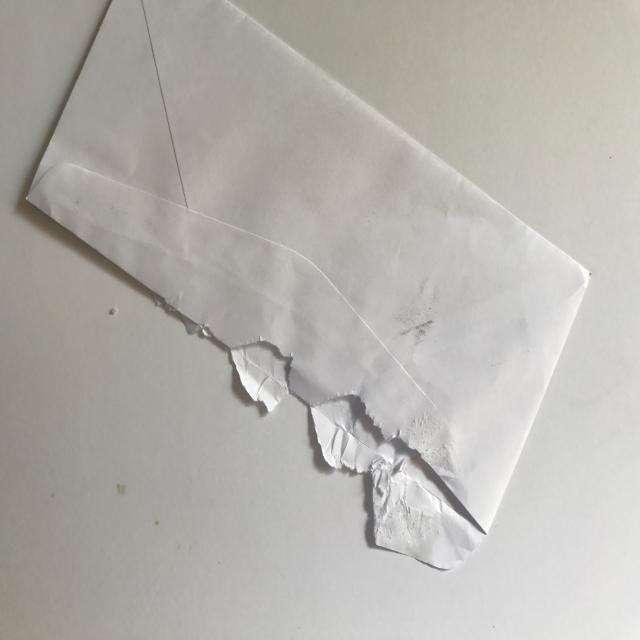paper: (19, 1, 594, 565)
